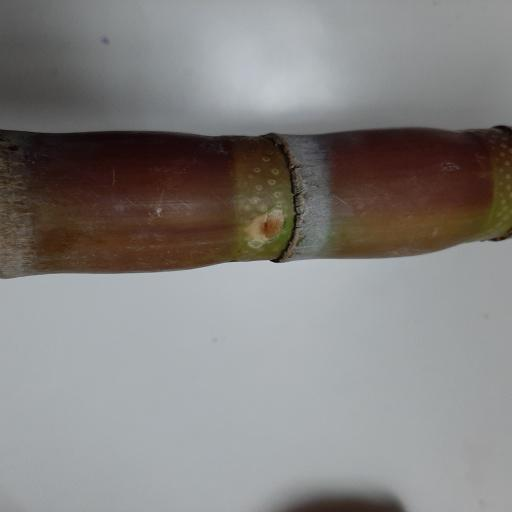Damage_Bud: (246, 207, 287, 247)
